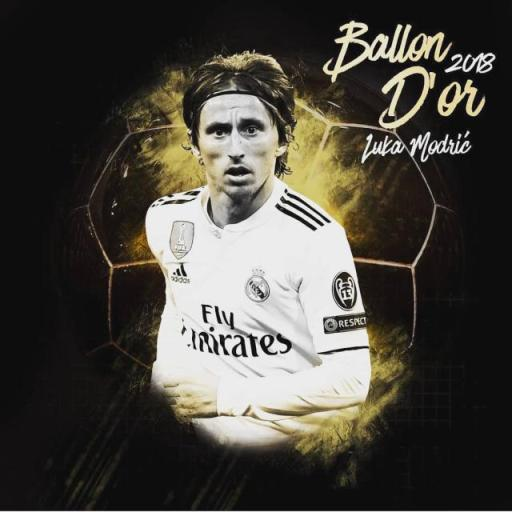Adidas: (168, 259, 194, 286), (168, 260, 194, 286)
Emirates: (175, 302, 292, 362)
